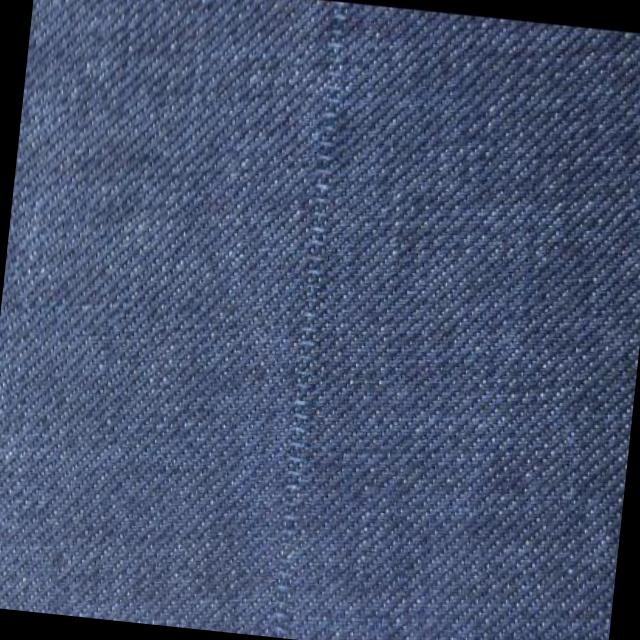Warp_Weft: (261, 0, 361, 639)
